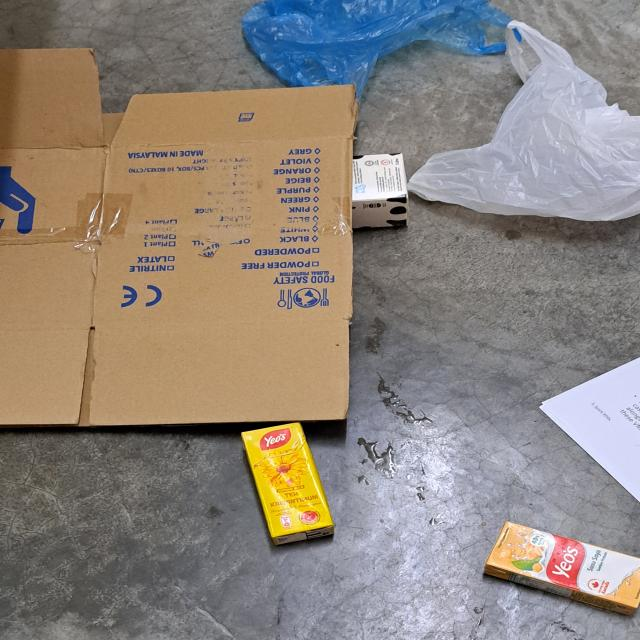cardboard: (0, 45, 356, 423)
drink carton: (482, 520, 640, 618), (239, 423, 336, 546), (348, 154, 408, 230)
paper: (535, 351, 640, 507)
plastic bag: (410, 18, 640, 225), (238, 0, 524, 108)
